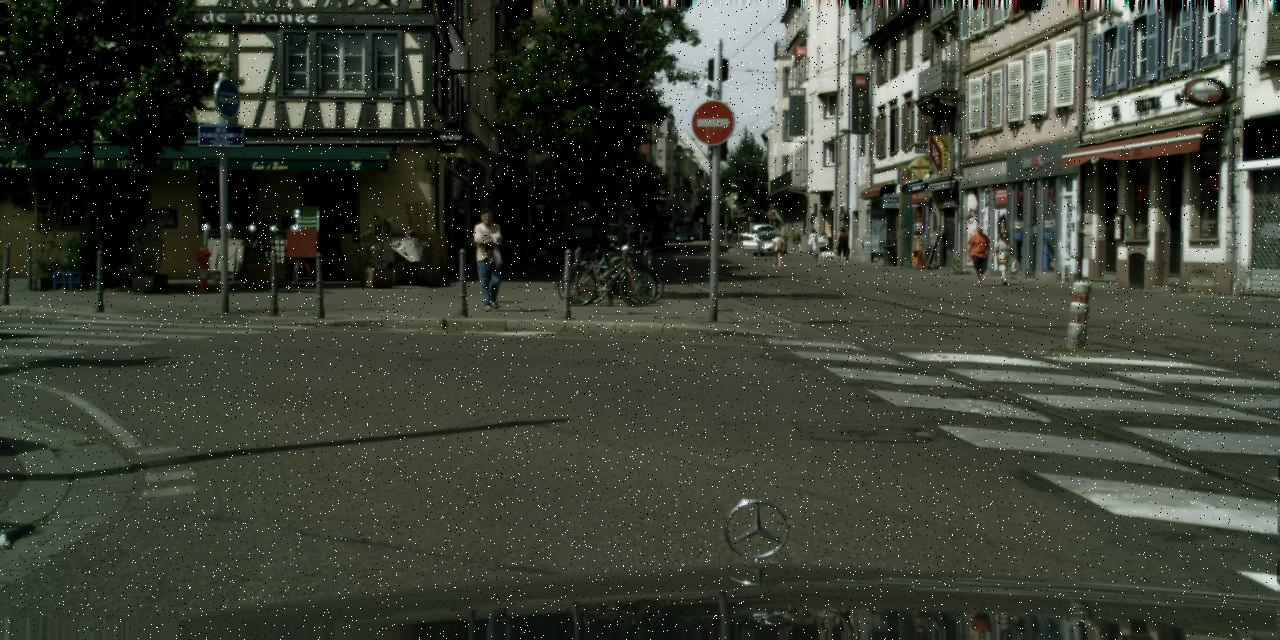ped: (468, 208, 511, 311), (968, 226, 992, 286), (994, 230, 1014, 284), (834, 227, 850, 265), (769, 230, 784, 268), (814, 230, 829, 266), (807, 229, 818, 257), (639, 228, 649, 254)
